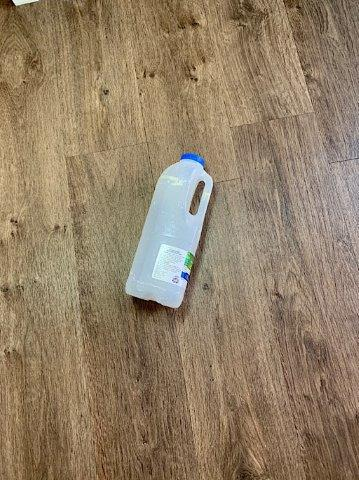botolplastik: (125, 153, 212, 308)
